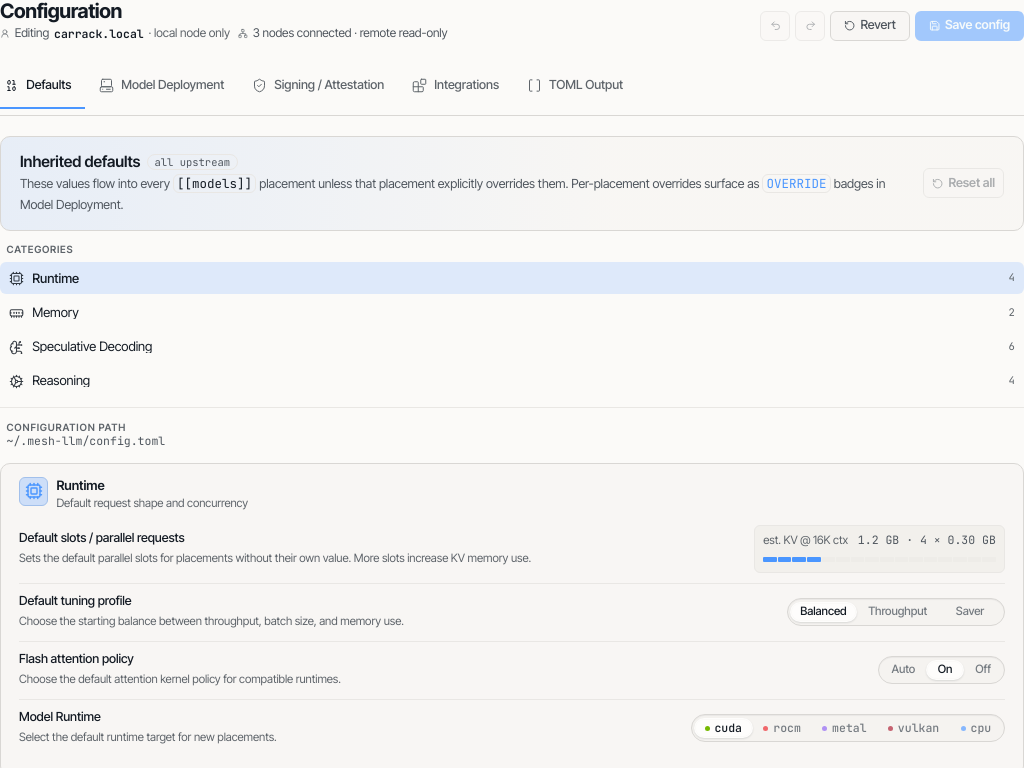
Test: ConfigurationPage › shows temporary configuration sections only when their feature flags are enabled
The width and height of the screenshot is (1024, 768).
Expected: the tab "Integrations" is shown, 398,64 -> 513,108
What coordinates should you click on to do the following:
click the tab "Signing / Attestation"
I would click on:
 (318, 86)
Its box is 238,64 -> 398,108.
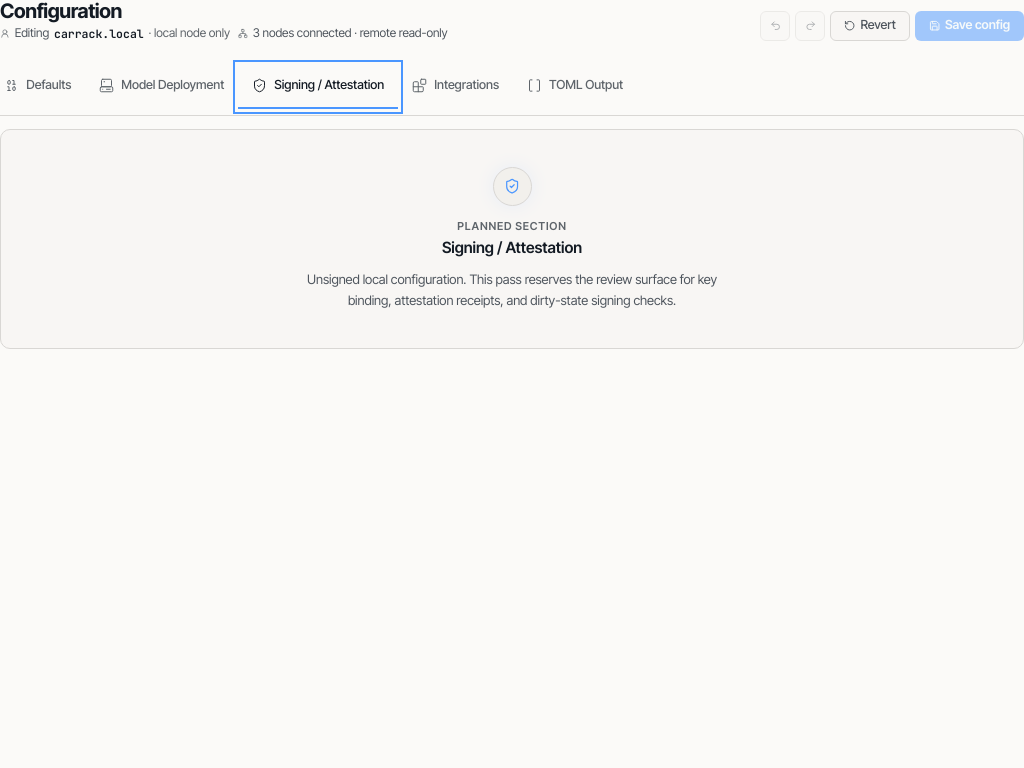
Result: the heading "Signing / Attestation" is shown at 442,237 -> 582,259
Result: the text "key binding, attestation receipts" is shown at 307,271 -> 717,308
What coordinates should you click on to do the following:
click the tab "Integrations"
I would click on:
 (456, 86)
Its box is 398,64 -> 513,108.
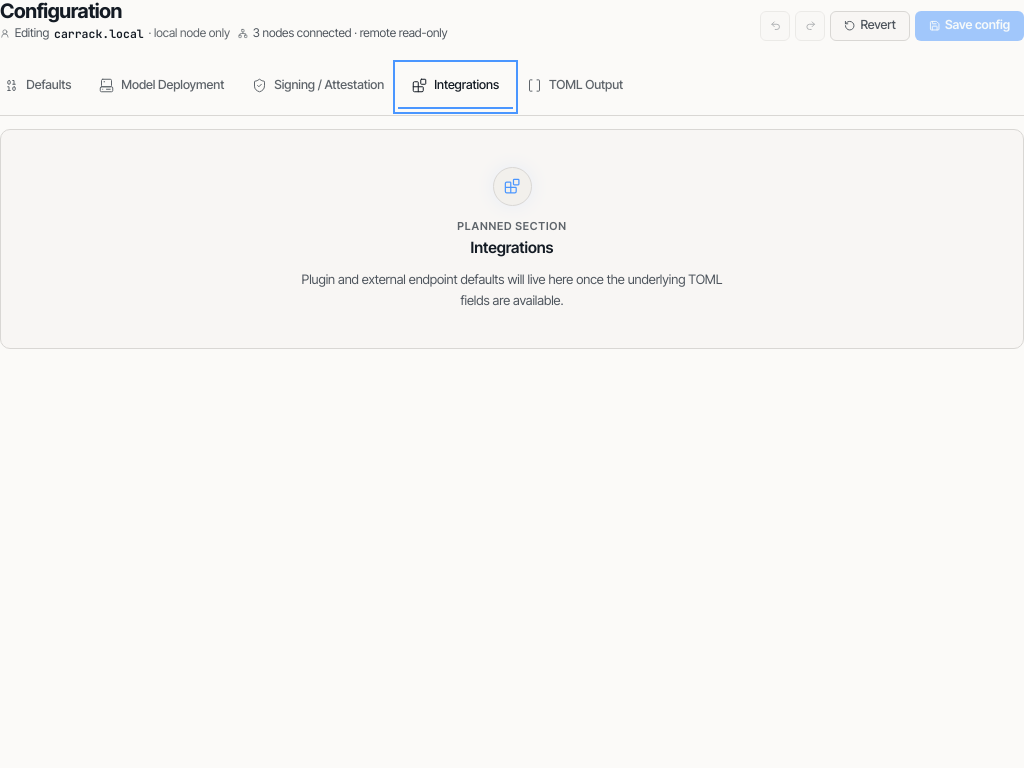
Result: the heading "Integrations" is shown at 471,237 -> 553,259
Result: the text "Plugin and external endpoint defaults" is shown at 302,271 -> 722,308
